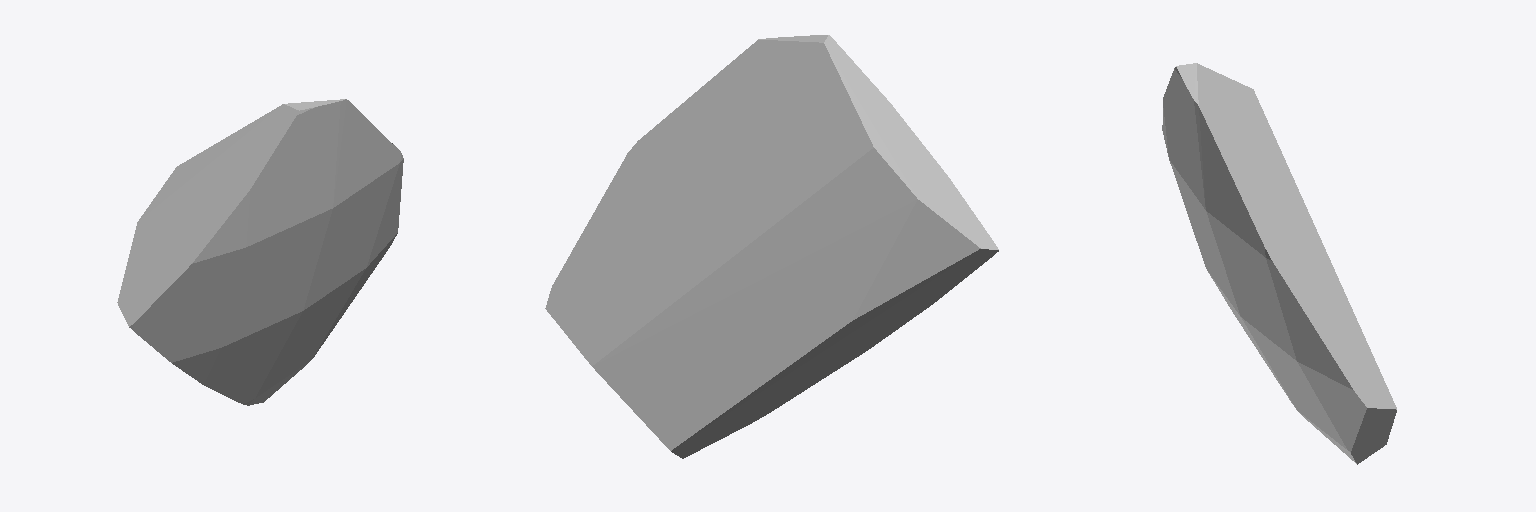
The model's file is Sphere_Cell_Fracture17.obj.
3 renders of one model, left to right at view 1: azimuth 30°, elevation 25°; view 2: azimuth 150°, elevation 25°; view 3: azimuth 270°, elevation 25°, orthographic.
Size of the model in its own units: 0.6263 by 0.6218 by 0.3558.